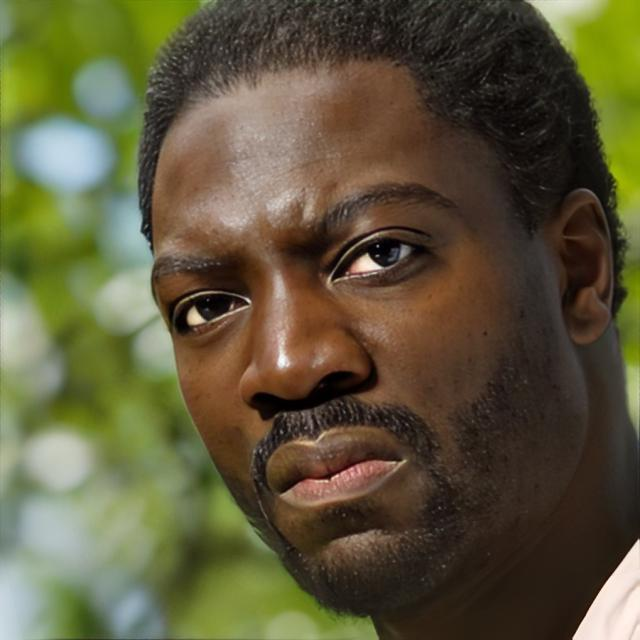disgust: (147, 53, 557, 616)
